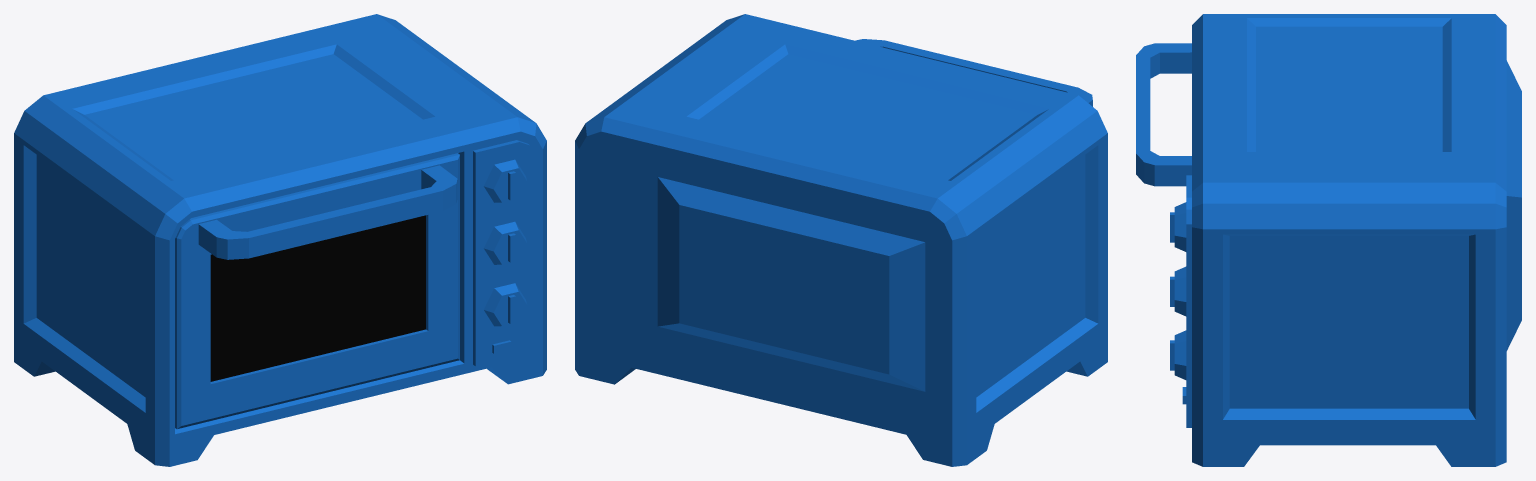
Rendered from SM_oven.fbx.
3 renders of one model, left to right at view 1: azimuth 30°, elevation 25°; view 2: azimuth 150°, elevation 25°; view 3: azimuth 270°, elevation 25°, orthographic. The views are drawn at different scales.
Parts seen in each view (by area): view 1: Cylinder_41, Cube_38; view 2: Cylinder_41, Cube_38; view 3: Cylinder_41, Cube_38.
Part boxes in pixels (bbox=[...]): Cylinder_41: bbox=[14, 14, 546, 466]; Cube_38: bbox=[175, 153, 459, 428]; Cylinder_41: bbox=[575, 14, 1107, 466]; Cube_38: bbox=[855, 39, 1092, 106]; Cylinder_41: bbox=[1170, 14, 1521, 466]; Cube_38: bbox=[1136, 43, 1191, 186].
Size of the model in its own units: 57.36 by 36.32 by 47.14.
